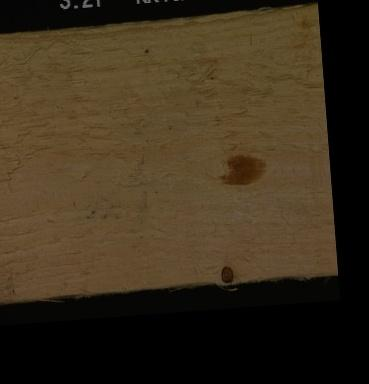dry_knot: (216, 263, 235, 283)
wave: (166, 272, 307, 290)
